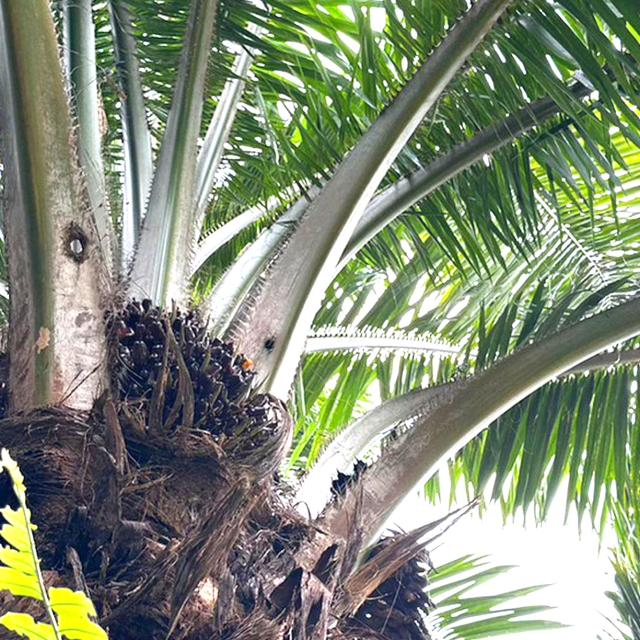almost: (98, 289, 292, 480)
